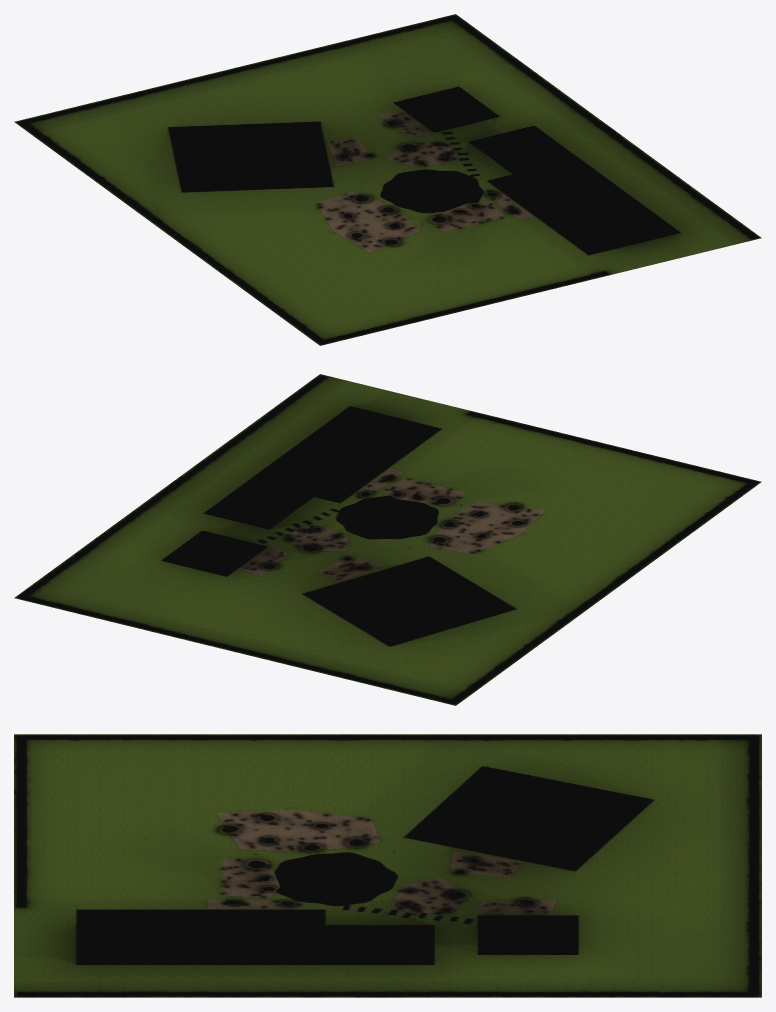
Rendered from boden.glb.
The picture shows the model from 3 angles, top to bottom: view 1: azimuth 30°, elevation 25°; view 2: azimuth 150°, elevation 25°; view 3: azimuth 270°, elevation 25°; orthographic projection. The views are drawn at different scales.
Parts seen in each view (by area): view 1: Licht_boden; view 2: Licht_boden; view 3: Licht_boden.
Part boxes in pixels (x1=…): Licht_boden: x1=14, y1=14, x2=761, y2=345; Licht_boden: x1=14, y1=374, x2=761, y2=705; Licht_boden: x1=14, y1=734, x2=761, y2=997.
Size of the model in its own units: 40 by 0.0117 by 48.
Materials: 1 (1 with a texture image).
